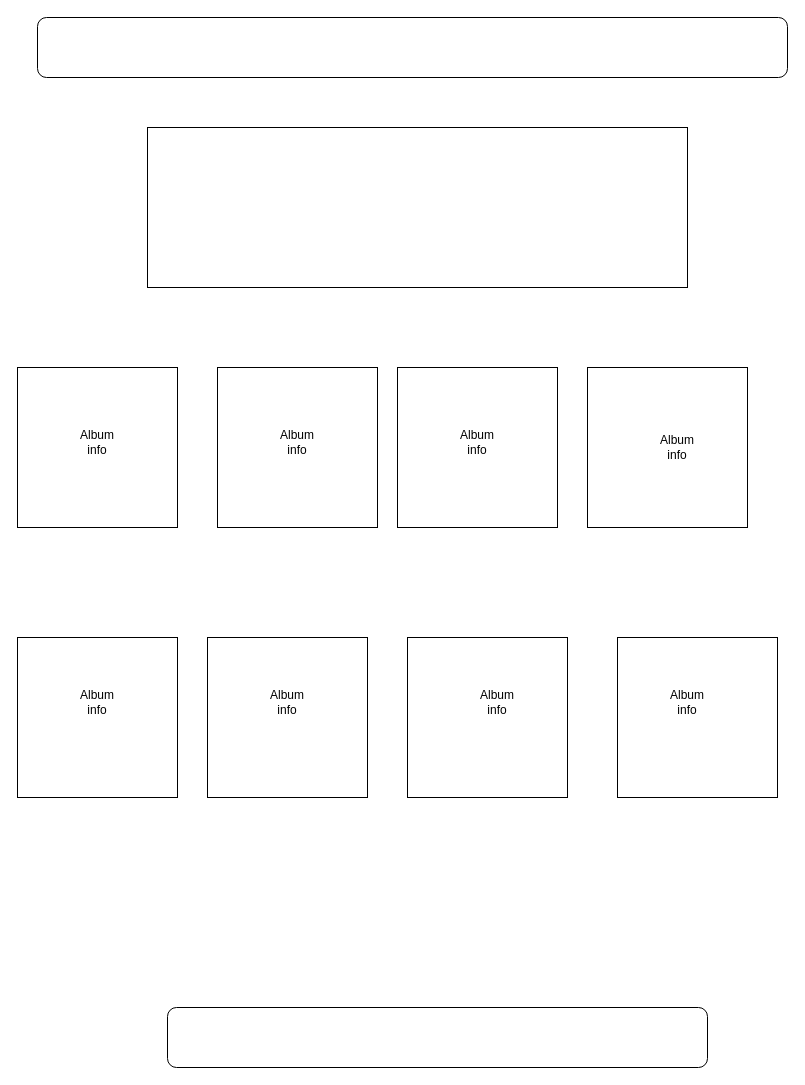
Some shapes in this 805 by 1085 pixel diagram are drawn without their labels. Each missing label, with the centre of its shape:
Footer: the point at 437,1037
Logo: the point at 417,207
Nav Bar: the point at 412,47
